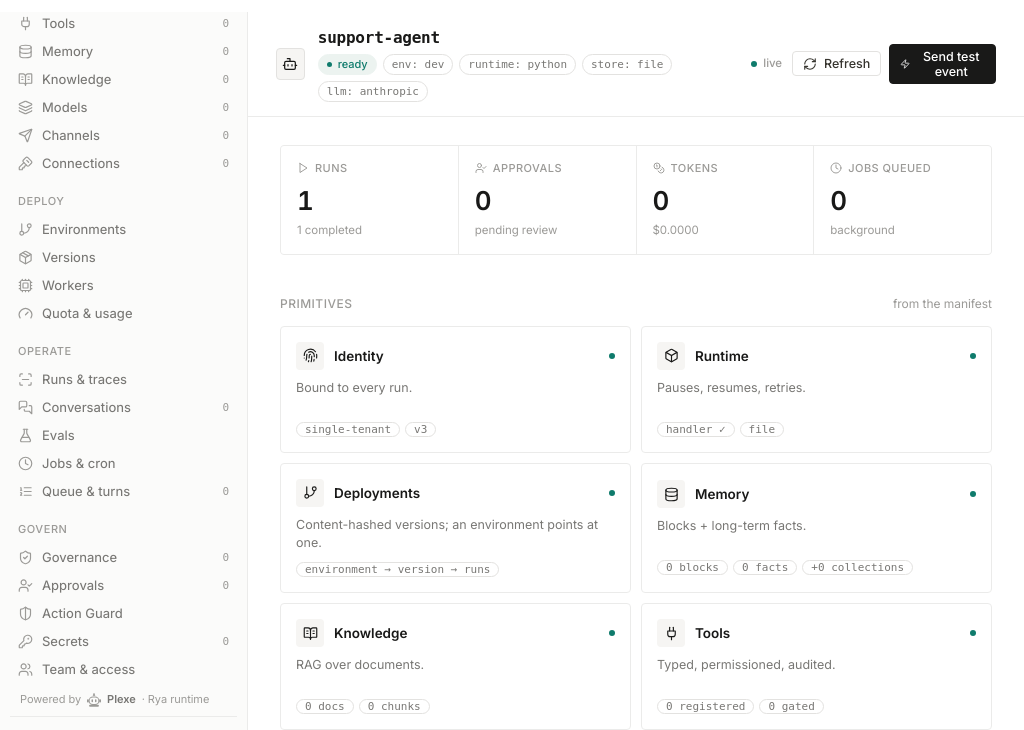
a view that throws during render › keeps the shell mounted and lets the operator navigate away
The width and height of the screenshot is (1024, 730).
(page scrolled)
Click the button "Action Guard" at (124, 613), box [10,599,237,627]
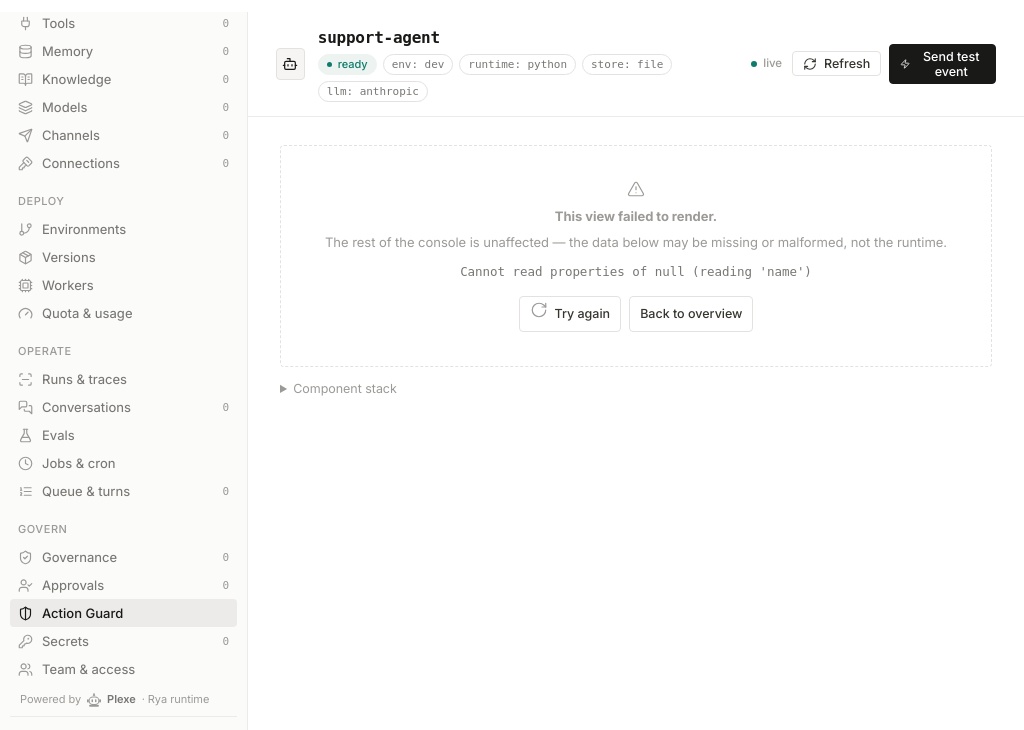
Now the text "This view failed to render." is shown, box [555,208,717,224]
Now the text "Cannot read properties of null (reading 'name')" is shown, box [460,264,812,279]
// Navigating away clears it without a reload.
Click the button "Runs & traces" at (124, 379), box [10,365,237,393]
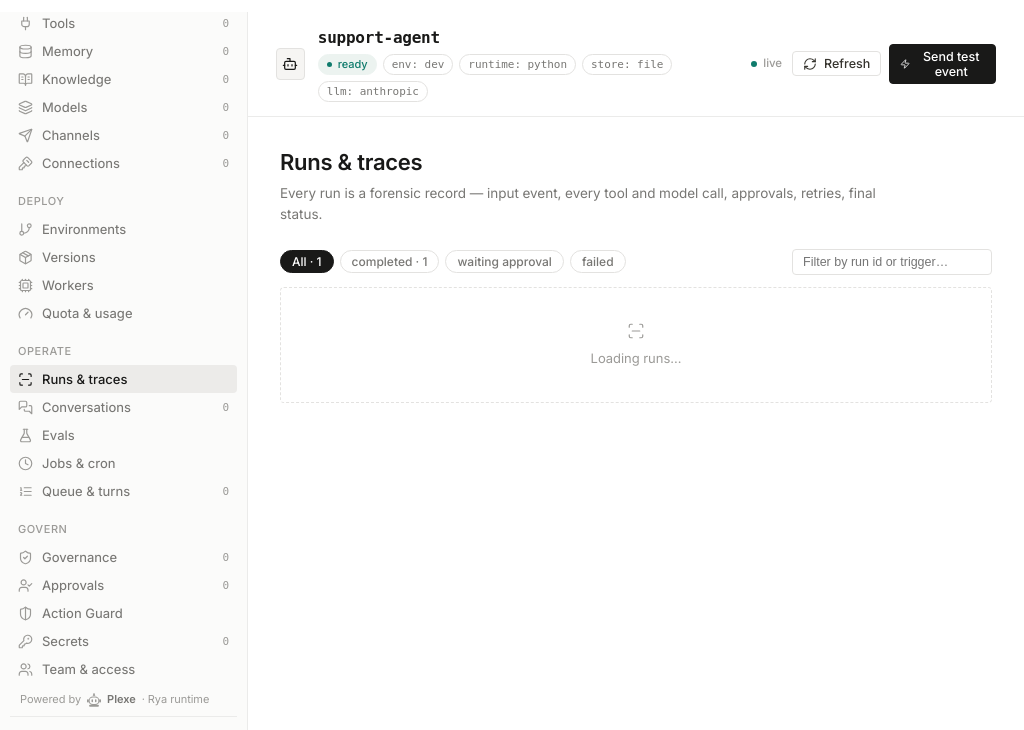
Now the text "This view failed to render." is gone
// ...and going back re-enters the broken view rather than latching clear.
Click the button "Action Guard" at (124, 613), box [10,599,237,627]
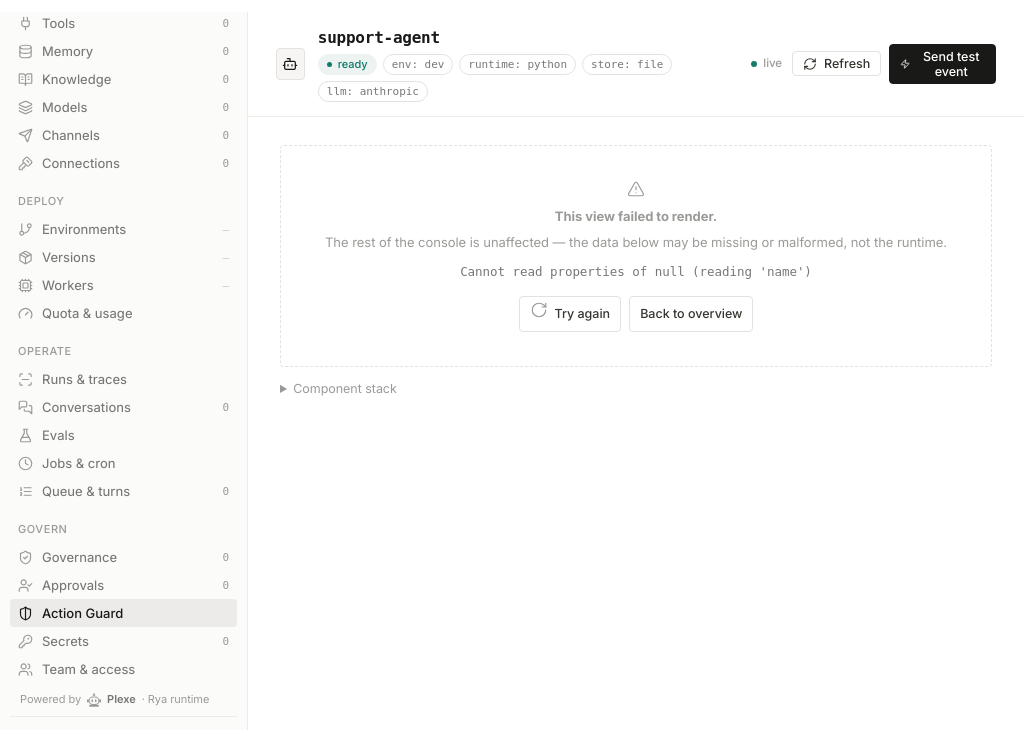
Now the text "This view failed to render." is shown, box [555,208,717,224]
